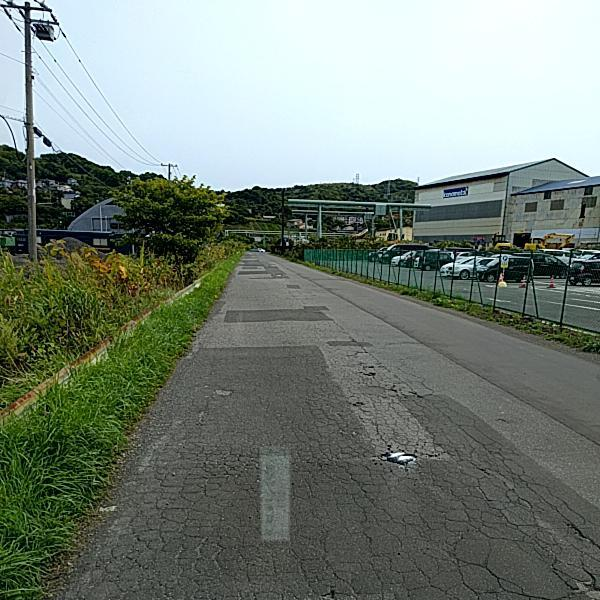D20: (97, 361, 599, 599)
D40: (377, 446, 424, 473), (559, 568, 599, 598)
